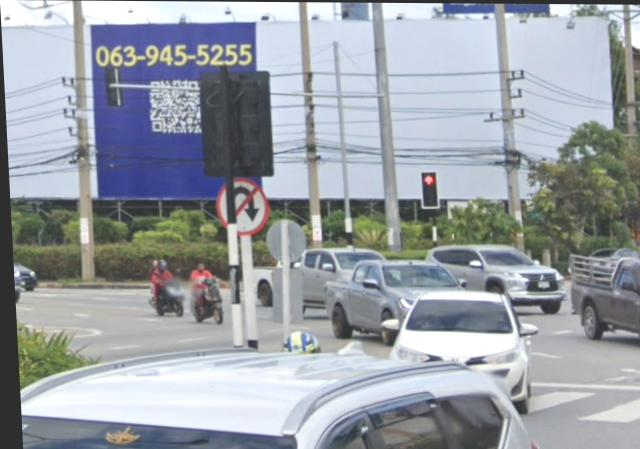not_u_turn_right: (212, 178, 268, 235)
